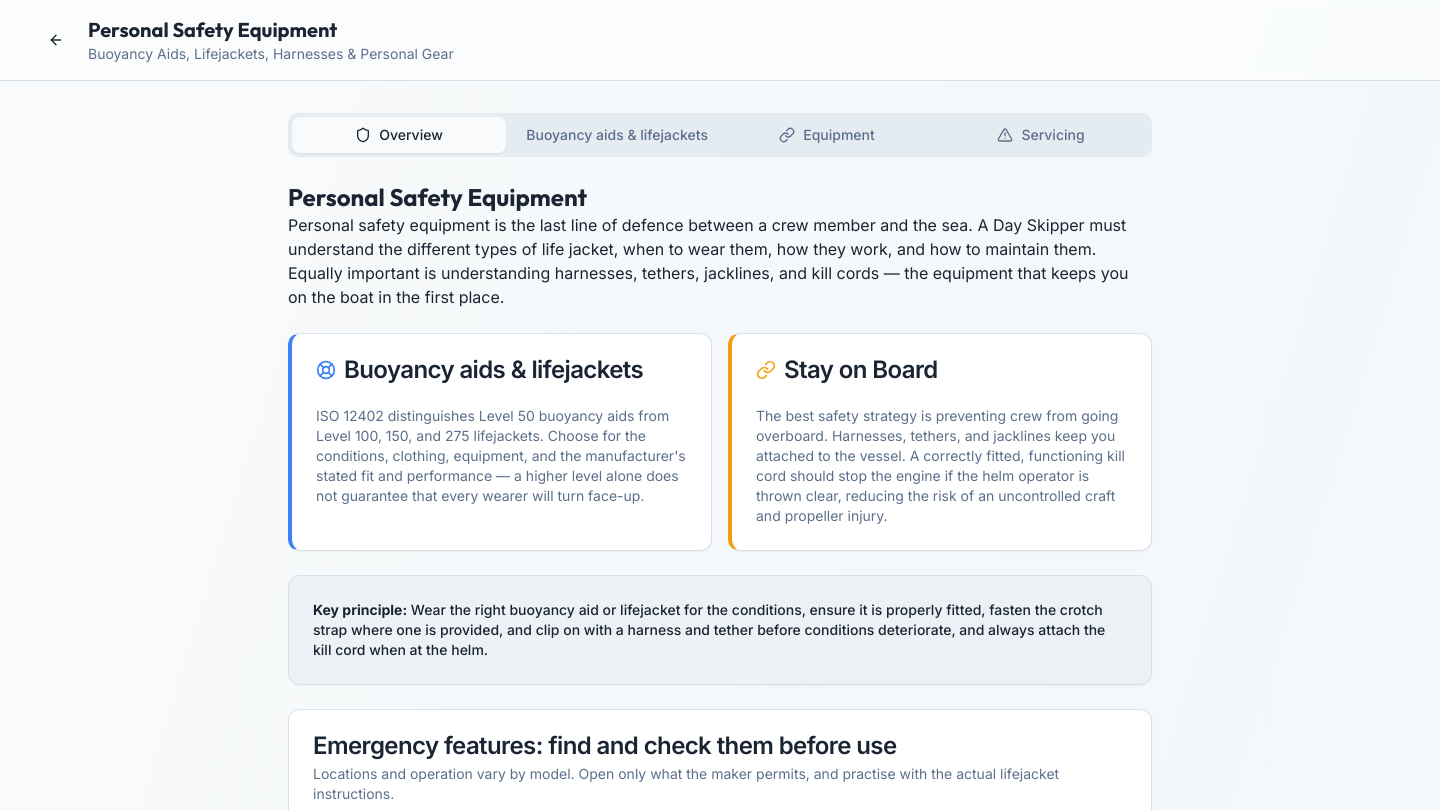
PersonalSafetyTheory Page › should cover kill cords in the Equipment tab (AC-1)
Click the tab "Equipment" at (827, 135), box [720,117,934,153]
(page scrolled)
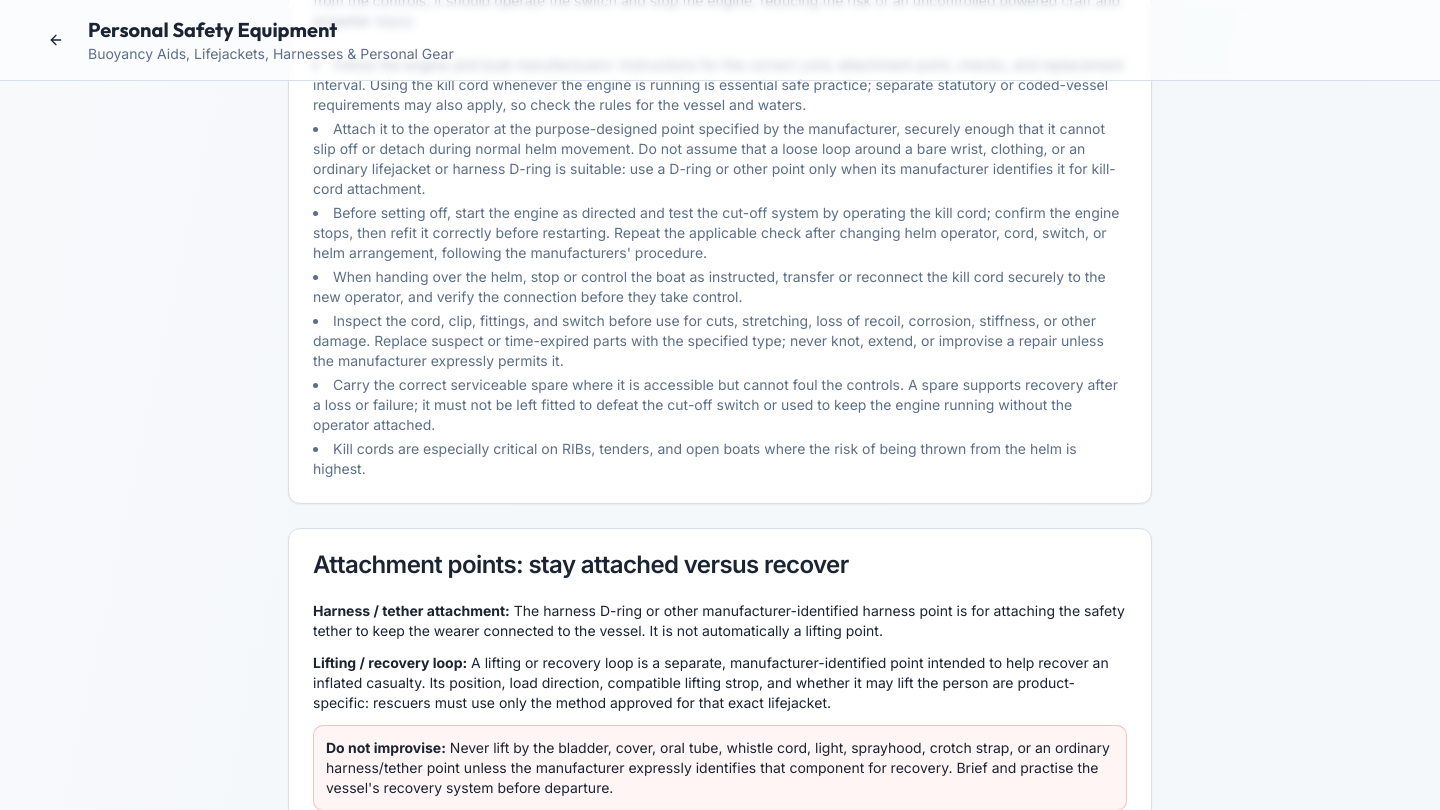
Expected: the list item "purpose-designed point specified by the manufacturer" is shown, [313,120,1116,197]
Expected: the 3rd list item is shown, [313,204,1120,261]
Expected: the list item "Carry the correct serviceable spare" is shown, [313,376,1118,433]
